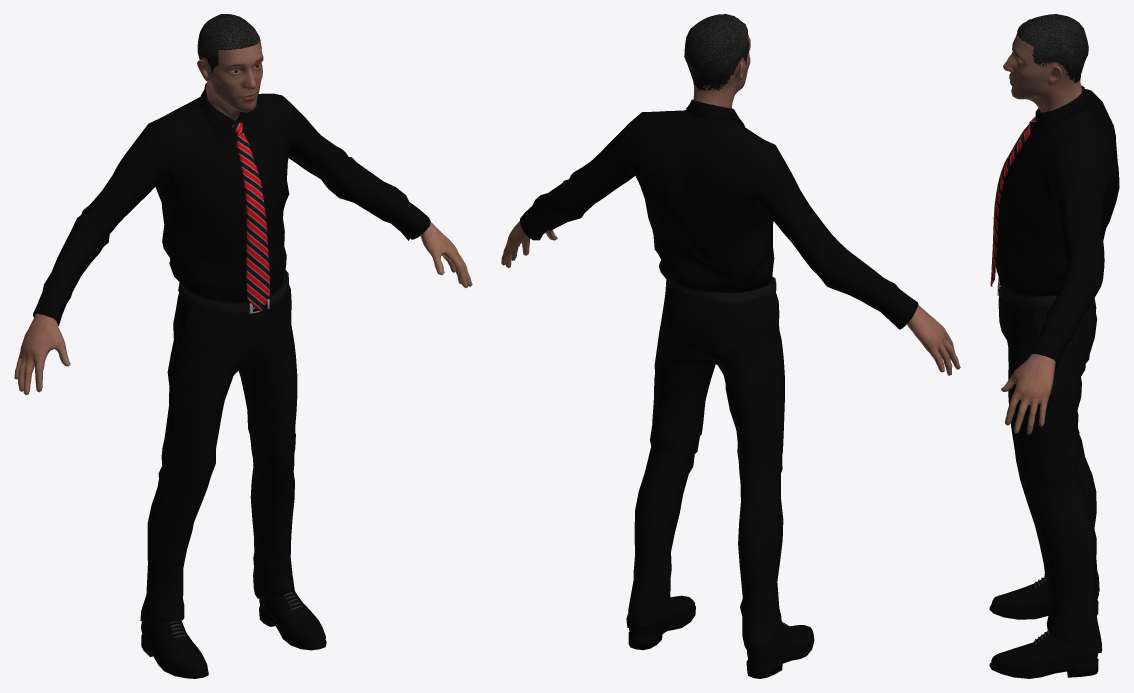
Rendered from LODs.fbx.
The picture shows the model from 3 angles, left to right: view 1: azimuth 30°, elevation 25°; view 2: azimuth 150°, elevation 25°; view 3: azimuth 270°, elevation 25°; orthographic projection.
Visible parts, largest first — view 1: LOD_0; view 2: LOD_0; view 3: LOD_0.
Boxes of the visible parts, left/top/right/bottom form: LOD_0: left=14, top=14, right=472, bottom=678; LOD_0: left=501, top=14, right=960, bottom=678; LOD_0: left=989, top=14, right=1119, bottom=678.
Size of the model in its own units: 138 by 185 by 34.83.
